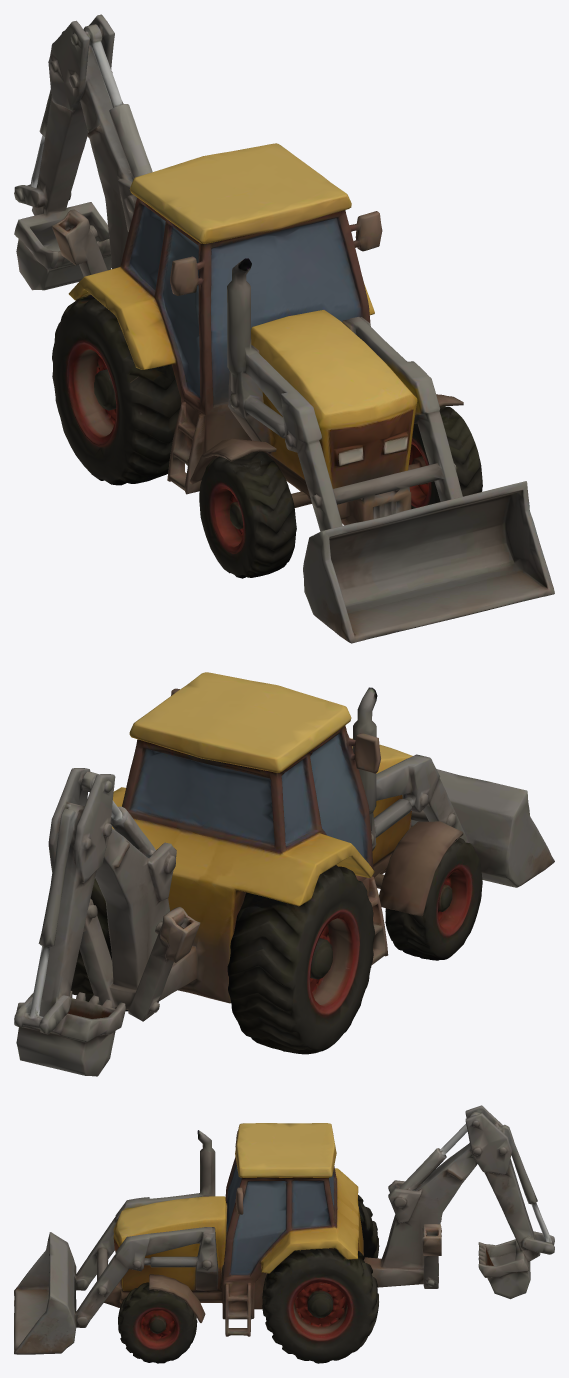
Rendered from tractor+3d+model.fbx.
The picture shows the model from 3 angles, top to bottom: view 1: azimuth 30°, elevation 25°; view 2: azimuth 150°, elevation 25°; view 3: azimuth 270°, elevation 25°; orthographic projection. The views are drawn at different scales.
Parts seen in each view (by area): view 1: meshes[0]; view 2: meshes[0]; view 3: meshes[0].
Boxes of the visible parts, <box> form: meshes[0]: <box>14,14,554,643</box>; meshes[0]: <box>14,672,554,1076</box>; meshes[0]: <box>14,1105,554,1363</box>.
Size of the model in its own units: 0.3378 by 0.4496 by 1.
1 material, 1 textured.
